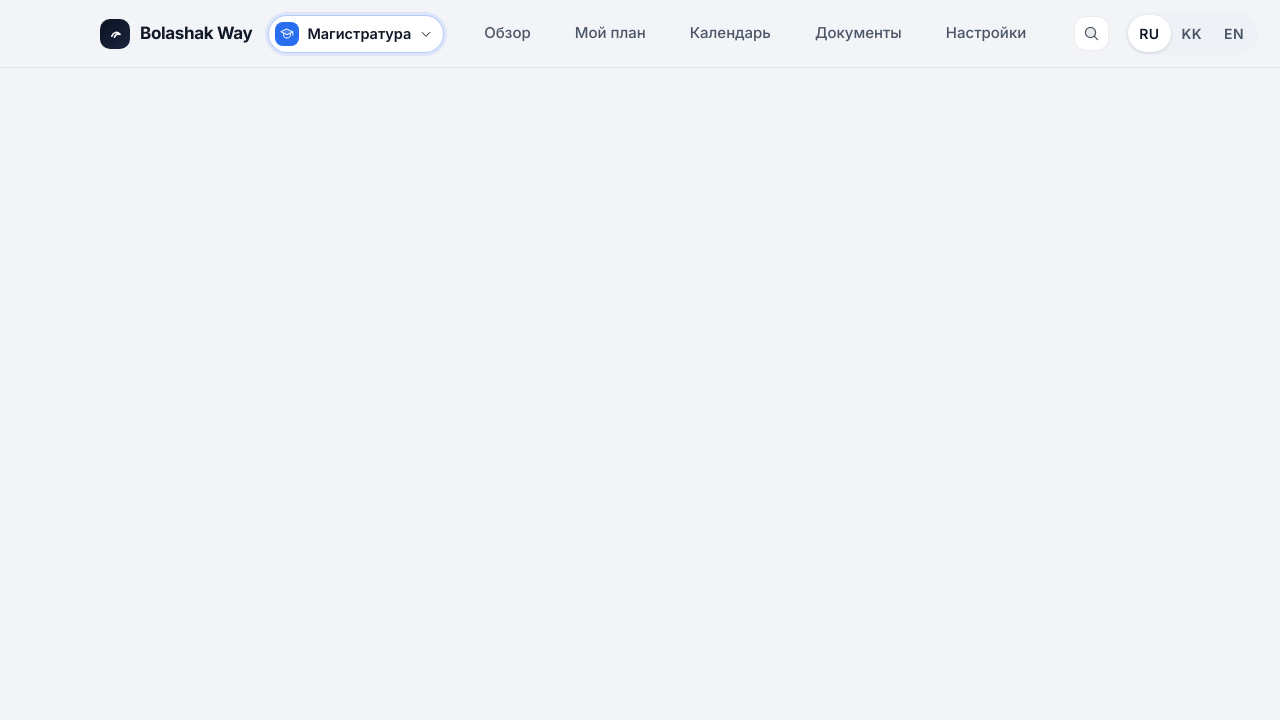
search overlay › opens from the header and finds interview slot answers
Step 1. Click the button named "Поиск" → (1092, 34), box left=1074, top=16, right=1109, bottom=51
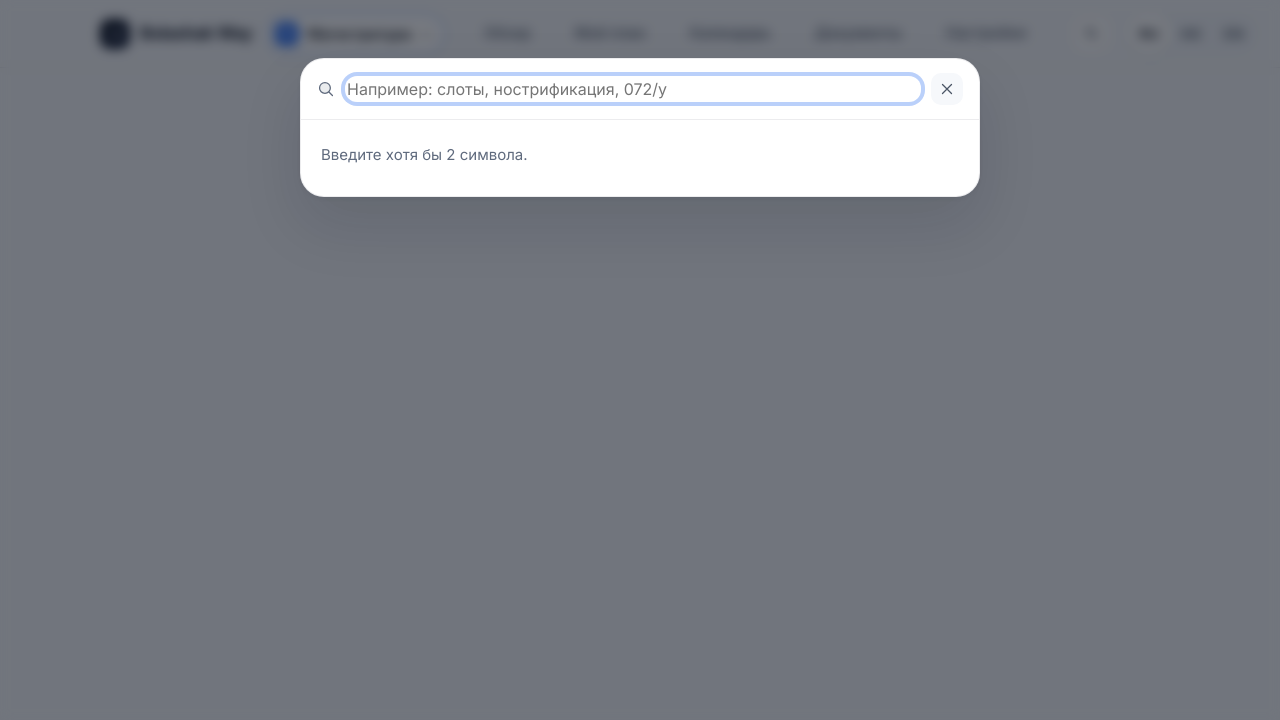
Step 2. Type "слоты" into the search field → (633, 89), box left=345, top=76, right=921, bottom=102
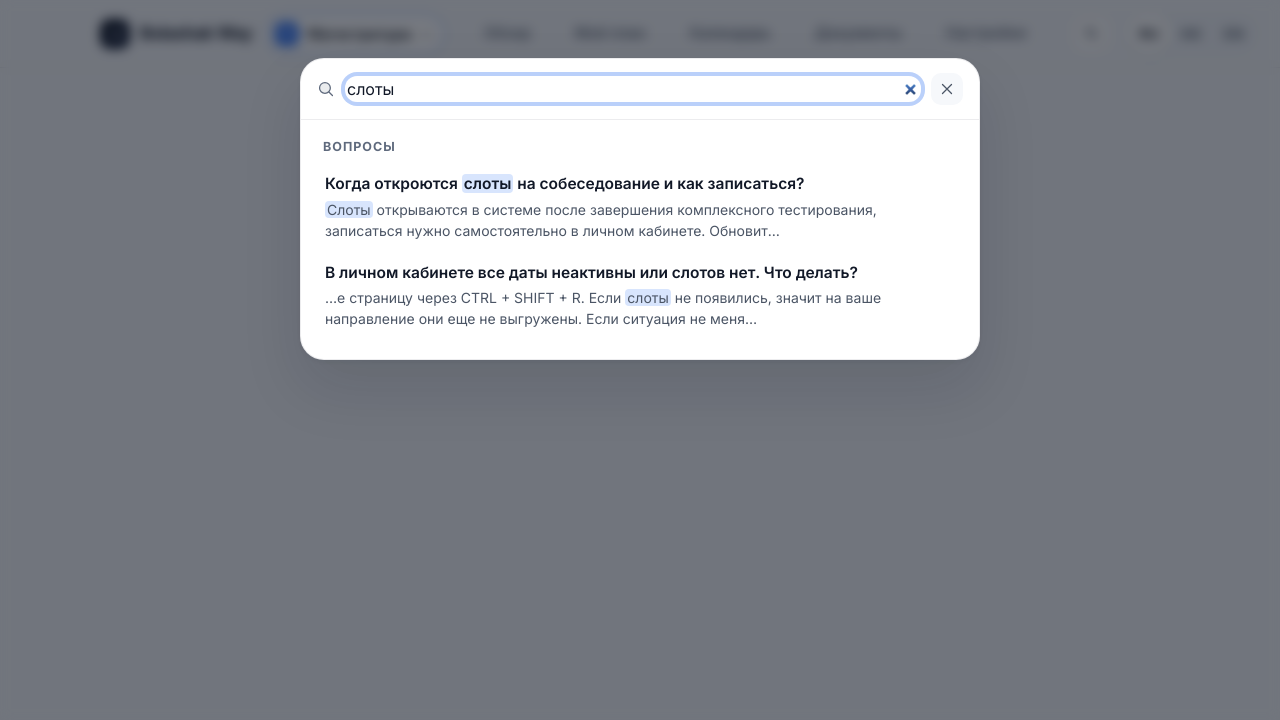
Check: the 1st text "слоты" is shown, box left=462, top=174, right=513, bottom=193
